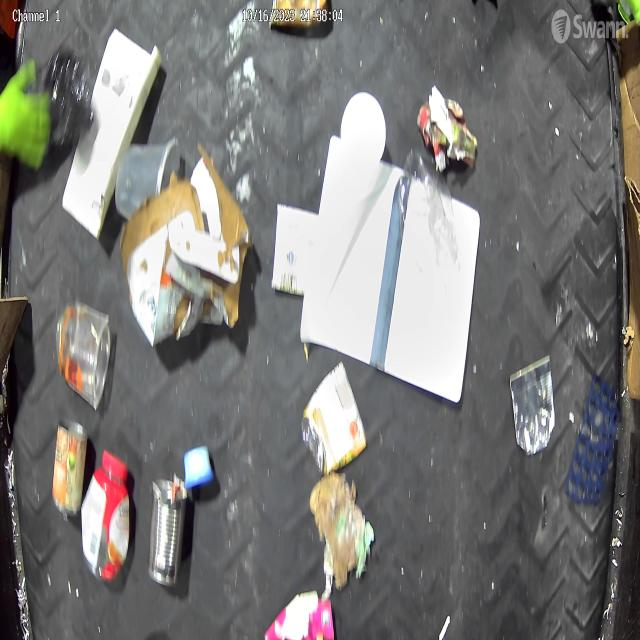can: (301, 359, 368, 476), (508, 354, 557, 456), (147, 477, 189, 588), (51, 415, 87, 518)
